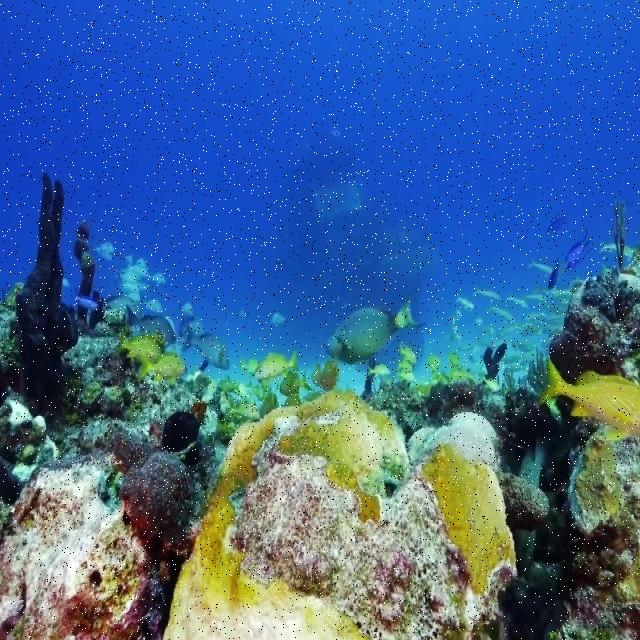fish: (540, 357, 639, 439), (324, 295, 426, 362), (254, 350, 299, 378)
reefs: (163, 389, 520, 639), (0, 336, 219, 639), (15, 174, 78, 411)
